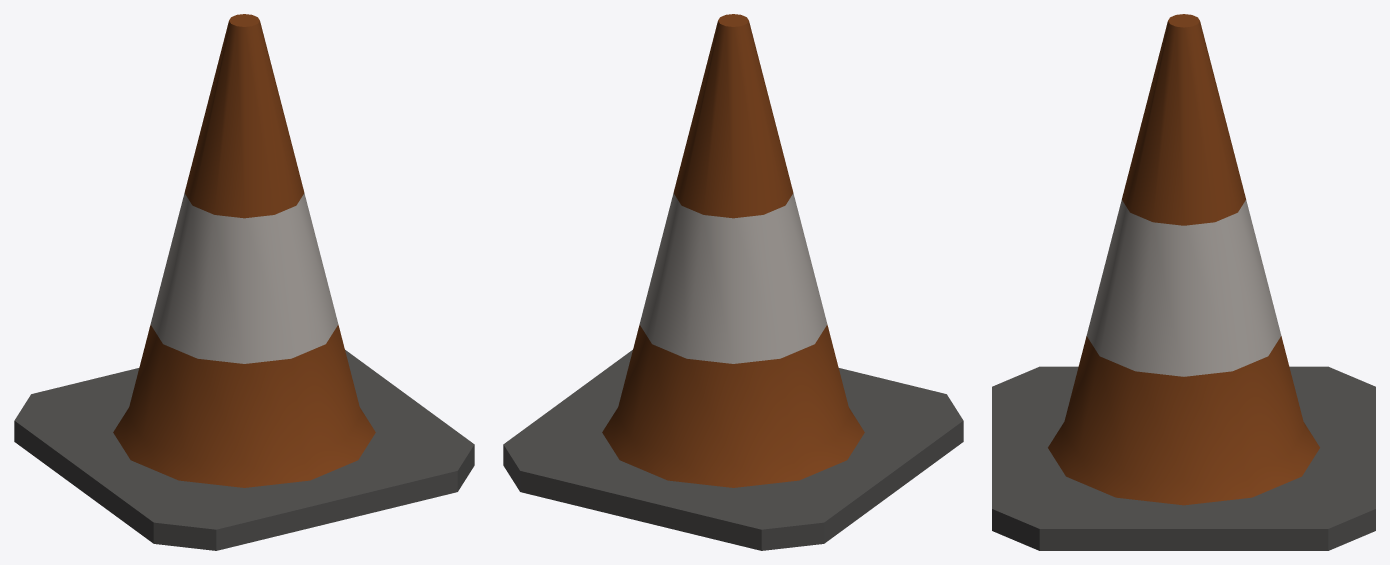
Rendered from trafficcone-1.glb.
3 renders of one model, left to right at view 1: azimuth 30°, elevation 25°; view 2: azimuth 150°, elevation 25°; view 3: azimuth 270°, elevation 25°, orthographic. The views are drawn at different scales.
Visible parts, largest first — view 1: TrafficCone_1; view 2: TrafficCone_1; view 3: TrafficCone_1.
Part boxes in pixels (x1,y1,x2,y2): TrafficCone_1: (14, 14, 474, 550); TrafficCone_1: (503, 14, 963, 550); TrafficCone_1: (992, 14, 1375, 550).
Size of the model in its own units: 0.5216 by 0.6733 by 0.5216.
